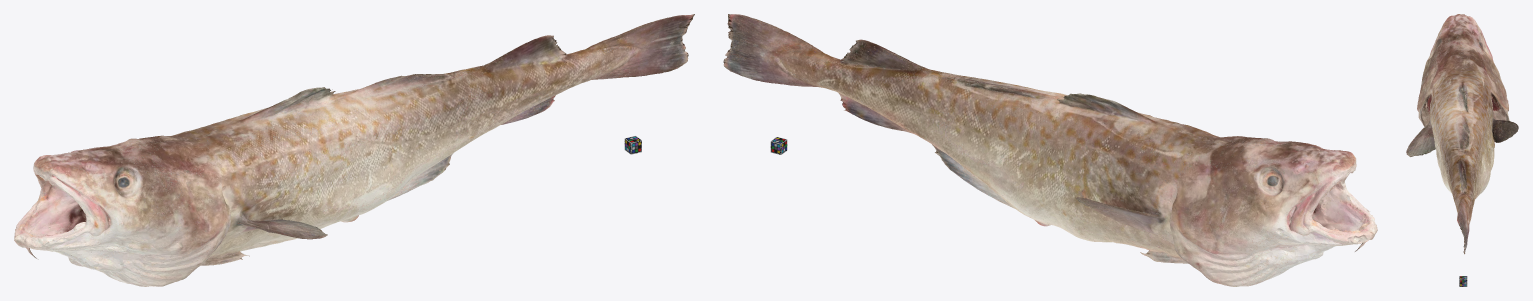
File: scan_pacificcod.glb
The picture shows the model from 3 angles, left to right: view 1: azimuth 30°, elevation 25°; view 2: azimuth 150°, elevation 25°; view 3: azimuth 270°, elevation 25°; orthographic projection. The views are drawn at different scales.
Visible parts, largest first — view 1: Object_6; view 2: Object_6; view 3: Object_6, Object_4.
Part boxes in pixels (x1=…): Object_6: x1=14, y1=14, x2=694, y2=286; Object_6: x1=723, y1=14, x2=1377, y2=286; Object_6: x1=1406, y1=14, x2=1518, y2=254; Object_4: x1=1459, y1=276, x2=1467, y2=286.
Bounding box in the file's own units: 0.592 × 0.1231 × 0.1328.
Materials: 2 (2 with a texture image).
